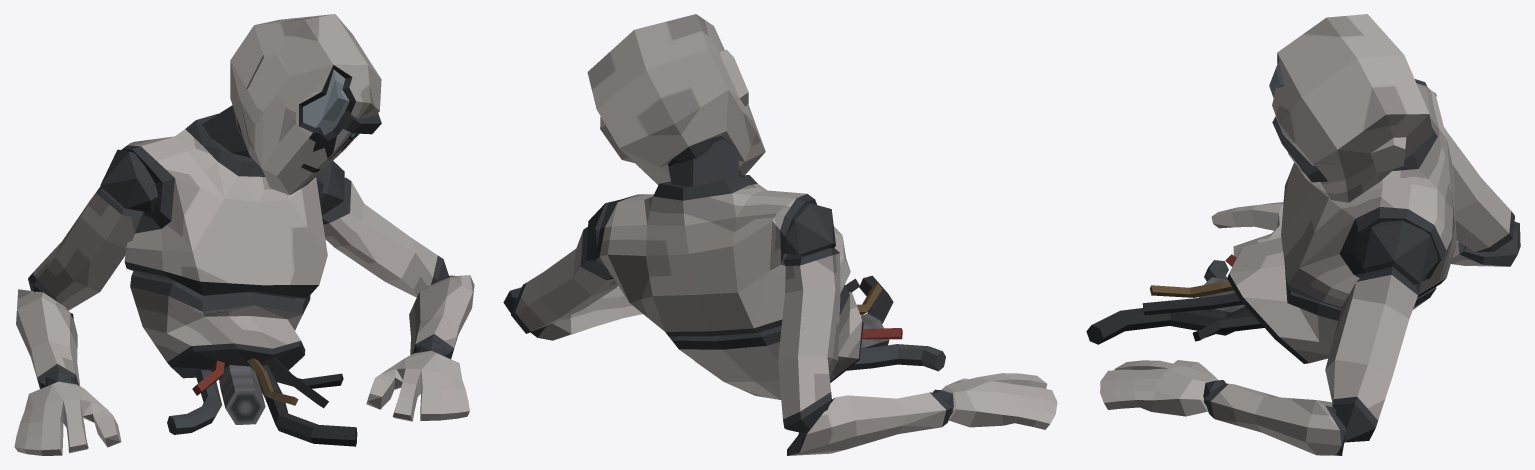
The model's file is SM_Prop_Robot_Posed_04.fbx.
The picture shows the model from 3 angles, left to right: view 1: azimuth 30°, elevation 25°; view 2: azimuth 150°, elevation 25°; view 3: azimuth 270°, elevation 25°; orthographic projection. The views are drawn at different scales.
Visible parts, largest first — view 1: SM_Prop_Robot_Posed_04; view 2: SM_Prop_Robot_Posed_04; view 3: SM_Prop_Robot_Posed_04.
Boxes of the visible parts, x1,y1,x2,y2 form: SM_Prop_Robot_Posed_04: (14,14,474,455); SM_Prop_Robot_Posed_04: (503,14,1057,455); SM_Prop_Robot_Posed_04: (1086,14,1520,455).
Bounding box in the file's own units: 102 × 69.11 × 73.23.
